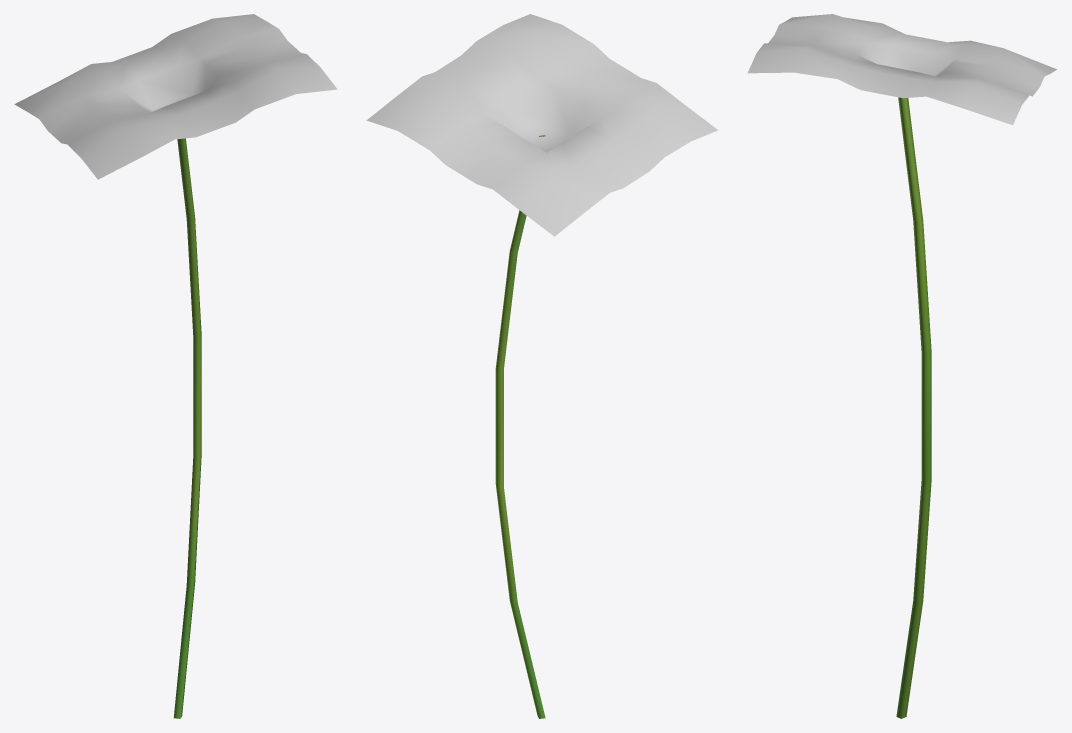
File: SM_flower_08.fbx
The picture shows the model from 3 angles, left to right: view 1: azimuth 30°, elevation 25°; view 2: azimuth 150°, elevation 25°; view 3: azimuth 270°, elevation 25°; orthographic projection. The views are drawn at different scales.
Visible parts, largest first — view 1: SM_flower_08; view 2: SM_flower_08; view 3: SM_flower_08.
Boxes of the visible parts, x1=… form: SM_flower_08: x1=14, y1=14, x2=337, y2=718; SM_flower_08: x1=366, y1=14, x2=717, y2=718; SM_flower_08: x1=748, y1=14, x2=1057, y2=718.
Size of the model in its own units: 24.21 by 58.98 by 23.84.
